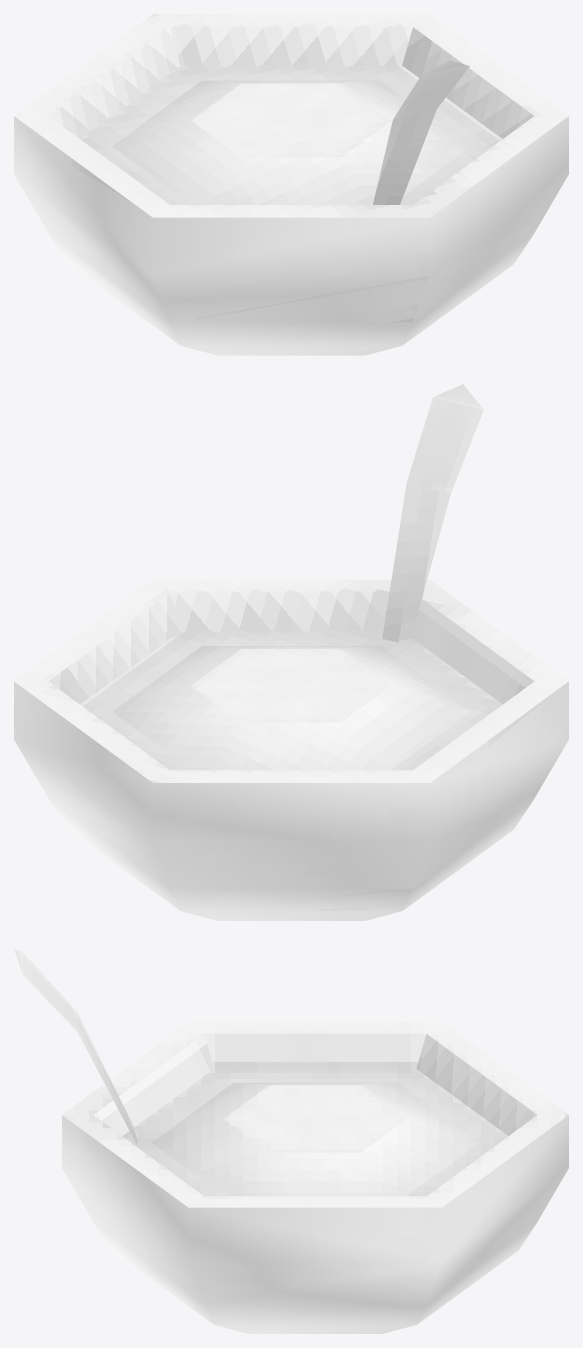
The model's file is bowlCereal.glb.
3 renders of one model, top to bottom at view 1: azimuth 30°, elevation 25°; view 2: azimuth 150°, elevation 25°; view 3: azimuth 270°, elevation 25°, orthographic. The views are drawn at different scales.
Parts seen in each view (by area): view 1: bowlCereal, bowlCereal.002, bowlCereal.001; view 2: bowlCereal, bowlCereal.002, bowlCereal.001; view 3: bowlCereal, bowlCereal.002, bowlCereal.001.
Part boxes in pixels (box(x1,y1,x2,y2)): bowlCereal: box(14, 14, 568, 355); bowlCereal.002: box(80, 65, 502, 204); bowlCereal.001: box(373, 60, 469, 204); bowlCereal: box(14, 579, 568, 920); bowlCereal.002: box(80, 631, 502, 770); bowlCereal.001: box(382, 384, 483, 645); bowlCereal: box(62, 1022, 568, 1333); bowlCereal.002: box(122, 1069, 507, 1196); bowlCereal.001: box(14, 949, 137, 1144).
Size of the model in its own units: 0.1556 by 0.1299 by 0.1966.
Materials: 1 (1 with a texture image).
